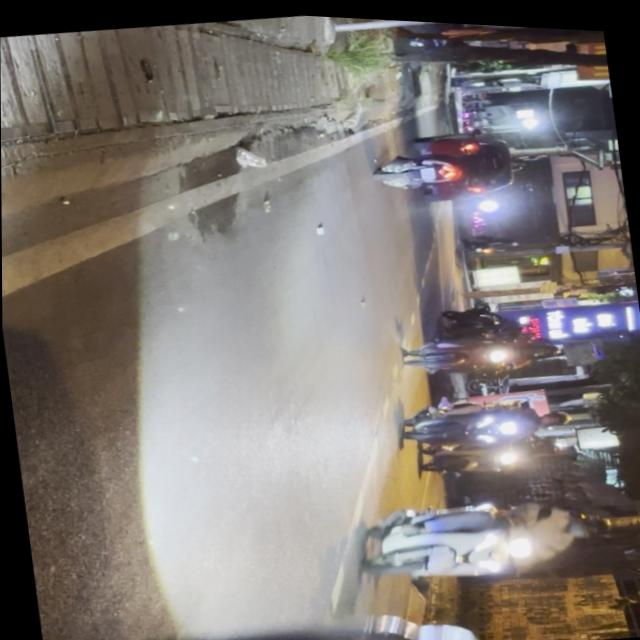helmet: (569, 508, 613, 536)
licenseplate: (352, 473, 622, 597)
